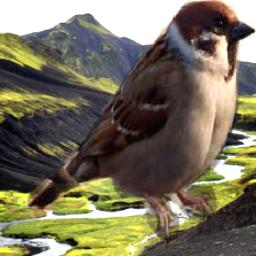Sparrow: (27, 0, 256, 248)
